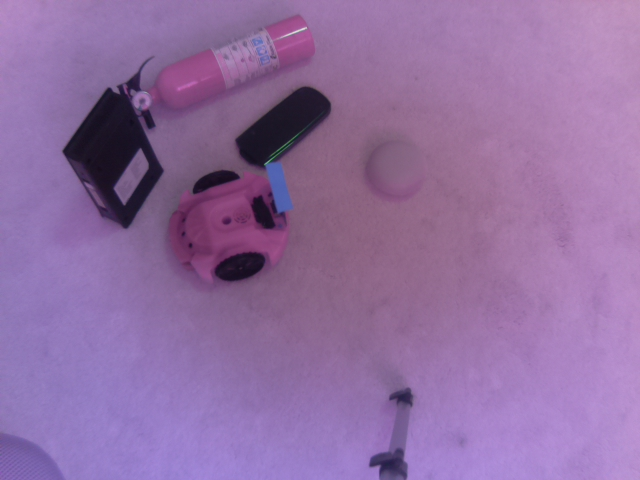board: (261, 157, 296, 220)
chassis: (160, 160, 295, 282)
